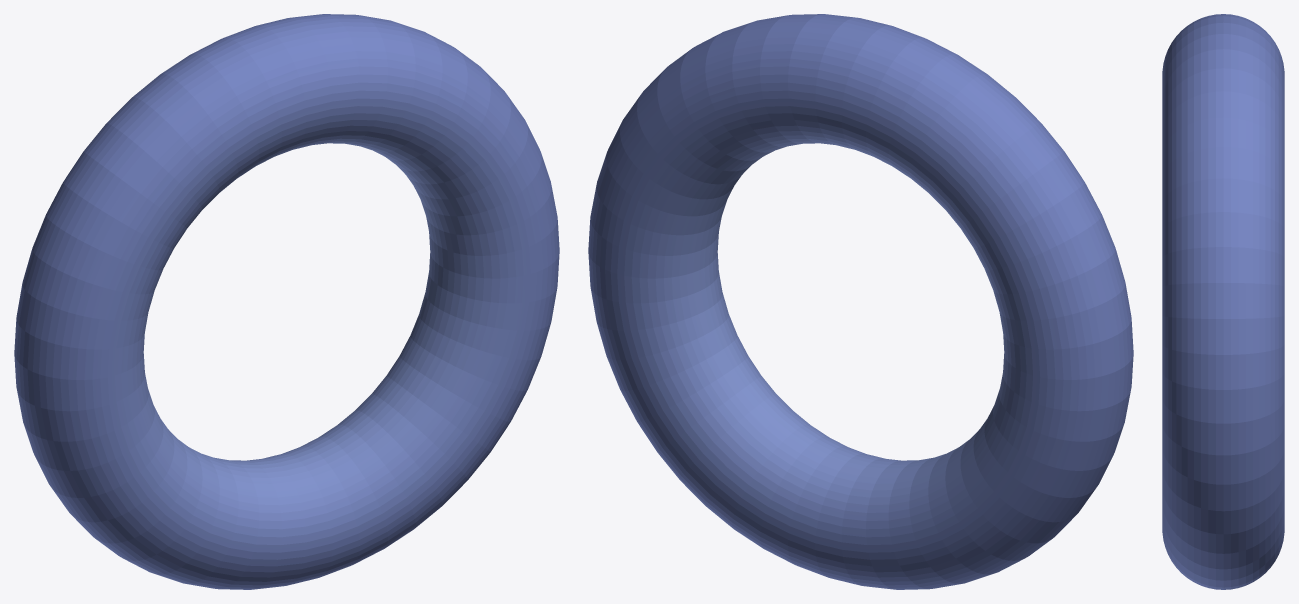
3 renders of one model, left to right at view 1: azimuth 30°, elevation 25°; view 2: azimuth 150°, elevation 25°; view 3: azimuth 270°, elevation 25°, orthographic. The views are drawn at different scales.
Parts seen in each view (by area): view 1: world; view 2: world; view 3: world.
Boxes of the visible parts, x1=… form: world: x1=14, y1=14, x2=559, y2=589; world: x1=588, y1=14, x2=1133, y2=589; world: x1=1162, y1=14, x2=1284, y2=589.
Bounding box in the file's own units: 19.47 × 19.43 × 4.13.
